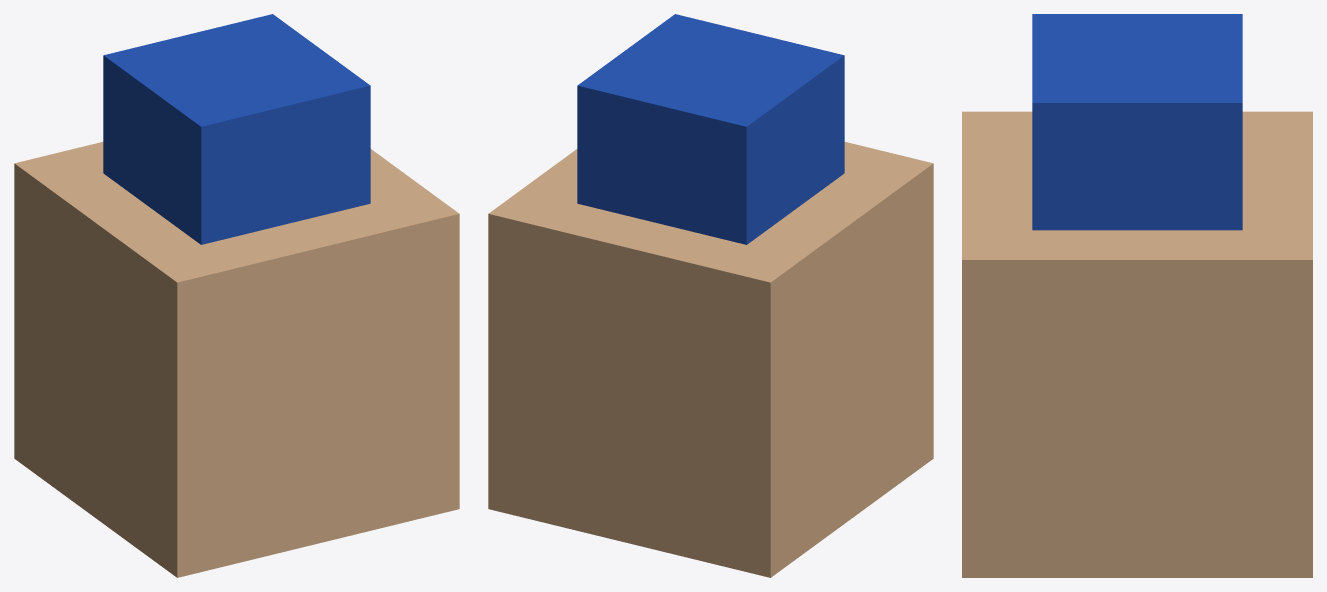
Rendered from funko_esempio.obj.
3 renders of one model, left to right at view 1: azimuth 30°, elevation 25°; view 2: azimuth 150°, elevation 25°; view 3: azimuth 270°, elevation 25°, orthographic. The views are drawn at different scales.
Size of the model in its own units: 2 by 2.8 by 2.
